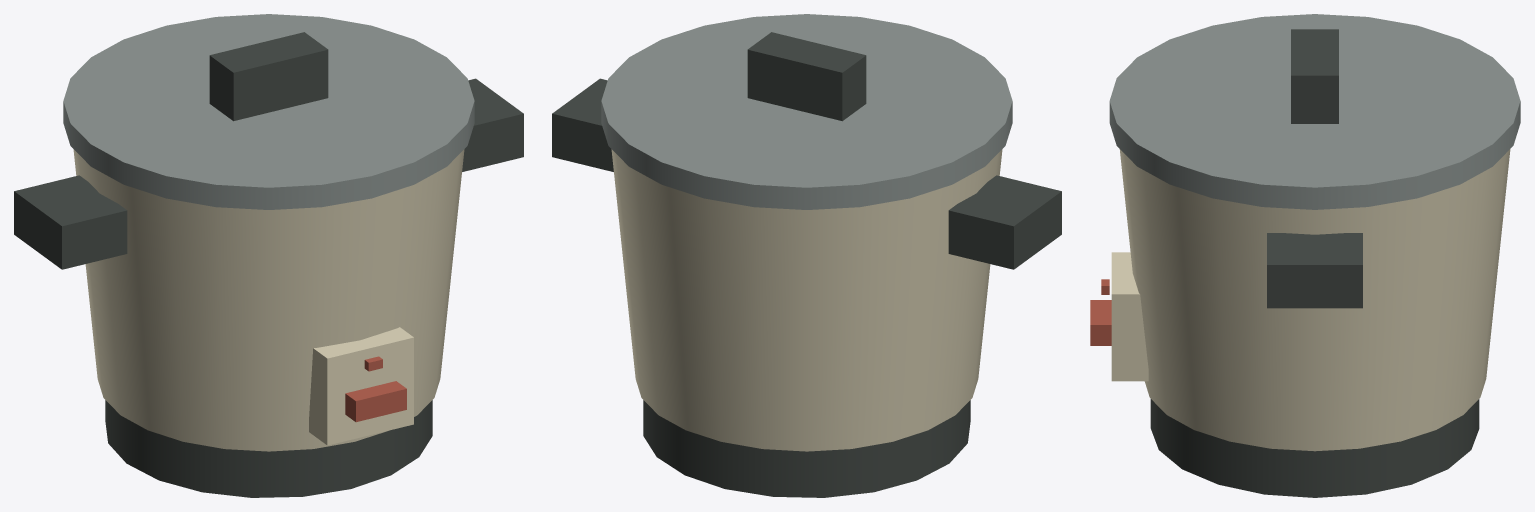
Rendered from riceCooker.glb.
The picture shows the model from 3 angles, left to right: view 1: azimuth 30°, elevation 25°; view 2: azimuth 150°, elevation 25°; view 3: azimuth 270°, elevation 25°; orthographic projection.
Parts seen in each view (by area): view 1: body, lid, foot, side-handle (×2), switch-panel, lid-handle, cook-switch; view 2: body, lid, foot, side-handle (×2), lid-handle; view 3: body, lid, foot, side-handle, lid-handle, switch-panel, cook-switch.
Part boxes in pixels (x1,y1,x2,y2): body: (73, 149, 464, 451); lid: (63, 14, 474, 209); foot: (105, 400, 432, 497); side-handle (×2): (14, 78, 523, 269); switch-panel: (309, 327, 413, 445); lid-handle: (209, 32, 328, 121); cook-switch: (345, 381, 406, 422); body: (611, 149, 1002, 451); lid: (601, 14, 1012, 209); foot: (643, 400, 970, 497); side-handle (×2): (552, 78, 1061, 269); lid-handle: (747, 32, 866, 121); body: (1119, 149, 1510, 451); lid: (1109, 14, 1520, 209); foot: (1150, 399, 1479, 497); side-handle: (1267, 233, 1362, 308); lid-handle: (1291, 29, 1338, 123); switch-panel: (1111, 252, 1148, 381); cook-switch: (1090, 300, 1111, 345).
Size of the model in its own units: 0.389 by 0.303 by 0.314.
